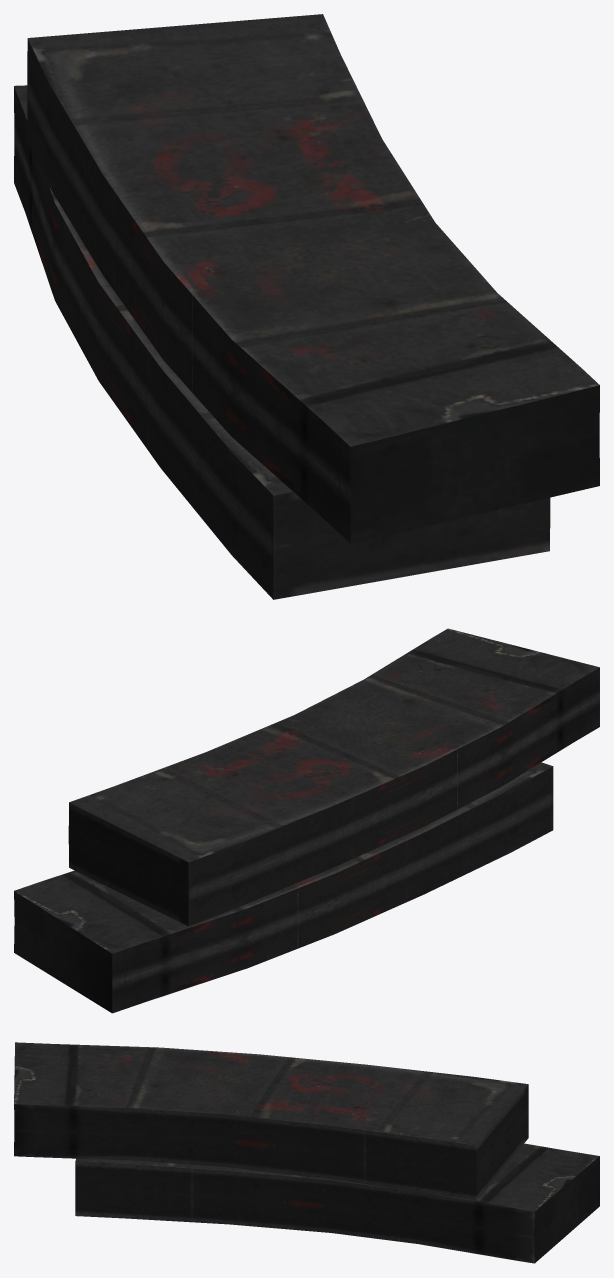
File: t6_attach_fastmag_saiga_world_LOD0.obj
3 views of the same model, one above another, from view 1: azimuth 30°, elevation 25°; view 2: azimuth 150°, elevation 25°; view 3: azimuth 270°, elevation 25° (orthographic). The views are drawn at different scales.
Visible parts, largest first — view 1: mtl_t6_wpn_shotty_saiga, mtl_t6_wpn_shotty_saiga_camo2; view 2: mtl_t6_wpn_shotty_saiga, mtl_t6_wpn_shotty_saiga_camo2; view 3: mtl_t6_wpn_shotty_saiga, mtl_t6_wpn_shotty_saiga_camo2.
Part boxes in pixels (x1,y1,x2,y2): mtl_t6_wpn_shotty_saiga: [25, 54, 599, 599]; mtl_t6_wpn_shotty_saiga_camo2: [14, 14, 340, 210]; mtl_t6_wpn_shotty_saiga: [34, 628, 599, 1001]; mtl_t6_wpn_shotty_saiga_camo2: [14, 786, 239, 1013]; mtl_t6_wpn_shotty_saiga: [14, 1042, 566, 1260]; mtl_t6_wpn_shotty_saiga_camo2: [429, 1077, 599, 1263].
Size of the model in its own units: 12.96 by 5.87 by 28.12.
